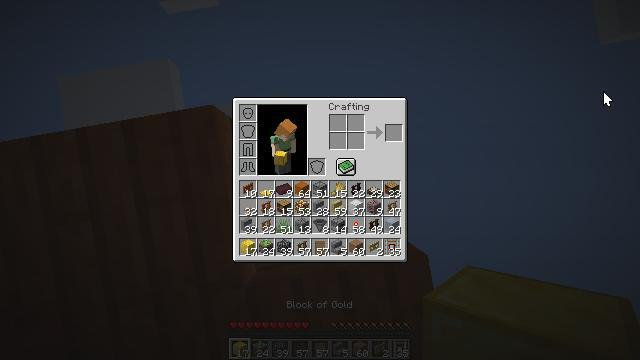cursor: (603, 91, 613, 107)
